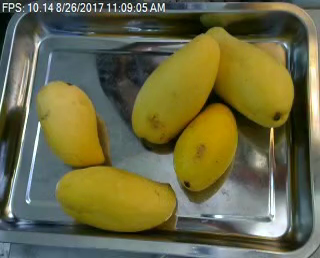Mango: (131, 30, 219, 142), (202, 25, 296, 129), (52, 164, 184, 233), (32, 77, 111, 168), (173, 99, 238, 191)
